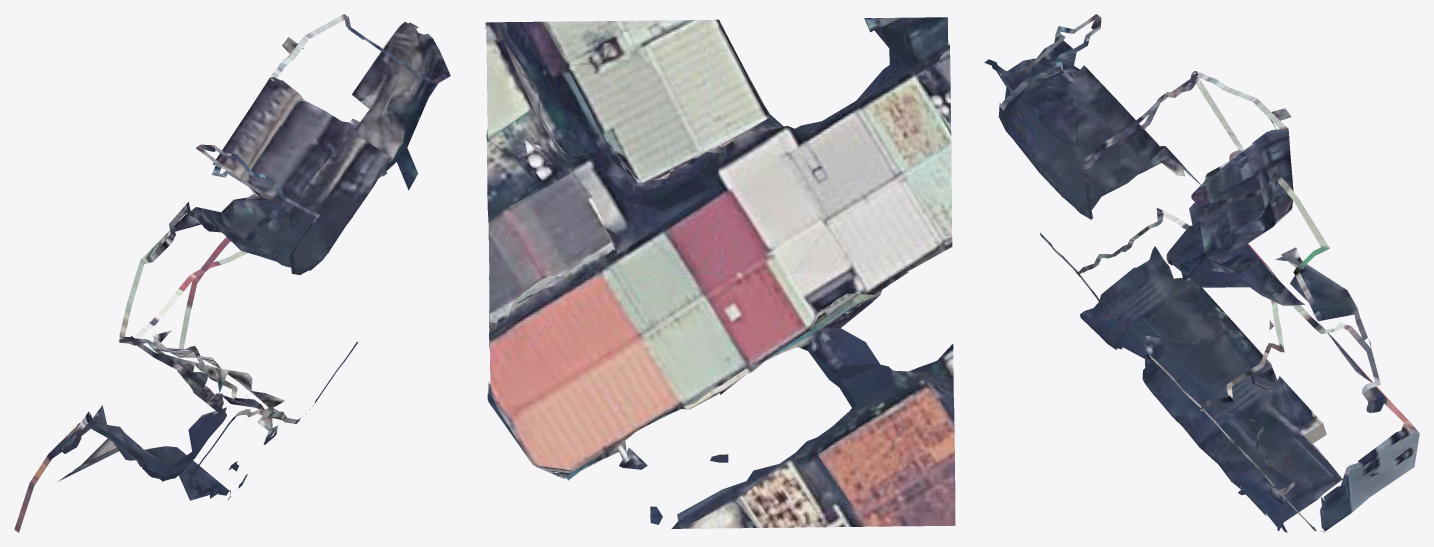
3 views of the same model, side by side, from view 1: azimuth 30°, elevation 25°; view 2: azimuth 150°, elevation 25°; view 3: azimuth 270°, elevation 25° (orthographic). The views are drawn at different scales.
Bounding box in the file's own units: 39.77 × 40.17 × 34.03.
Materials: 2 (2 with a texture image).
